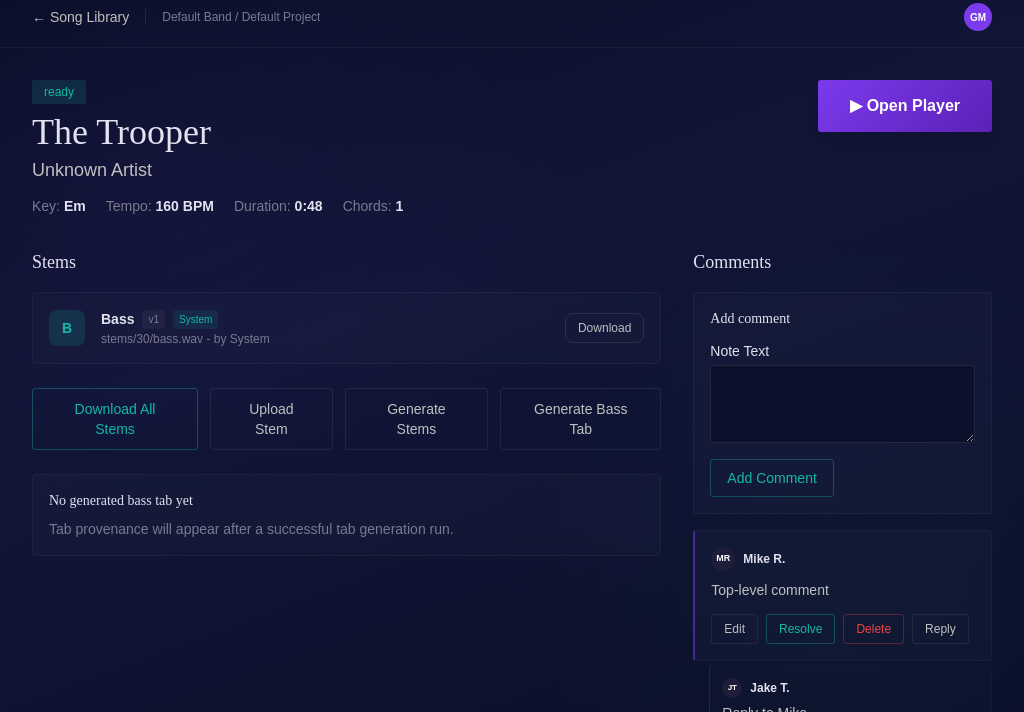
Test case: SongDetailPage › comment threading › opens inline reply form on Reply click
Click the button "Reply": [940, 629] box [912, 614, 969, 644]
(page scrolled)
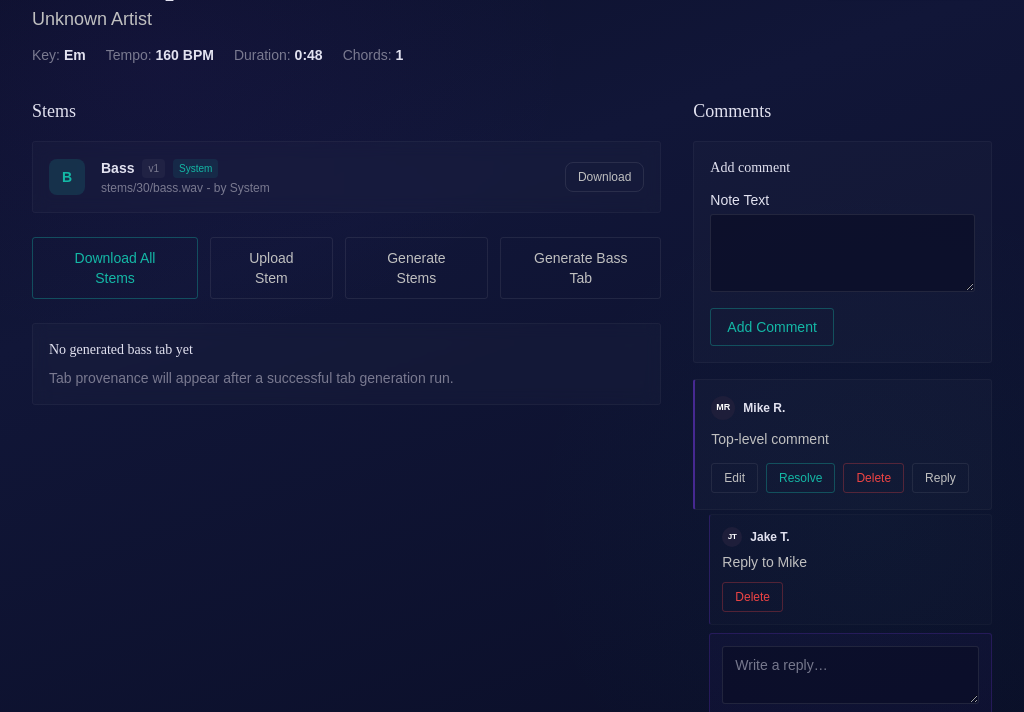
Now the text box named "Reply Text" is shown, box [722, 646, 979, 704]
